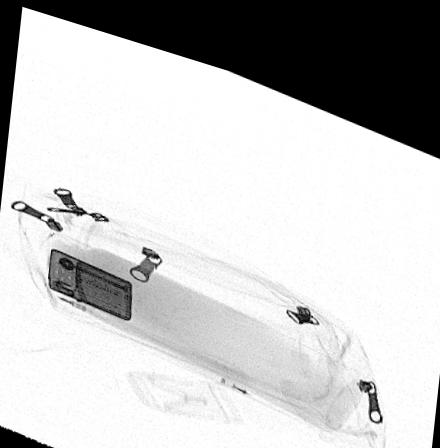Lighter: (47, 245, 133, 313)
